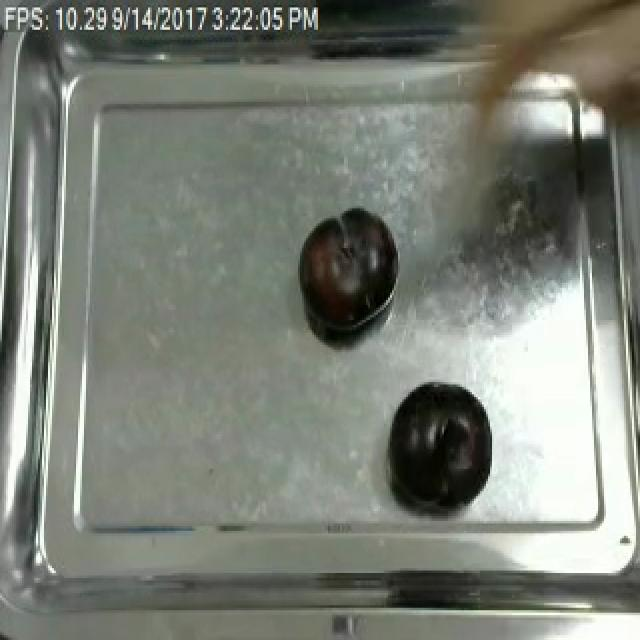Fruit: (382, 379, 494, 508), (294, 204, 394, 338)
